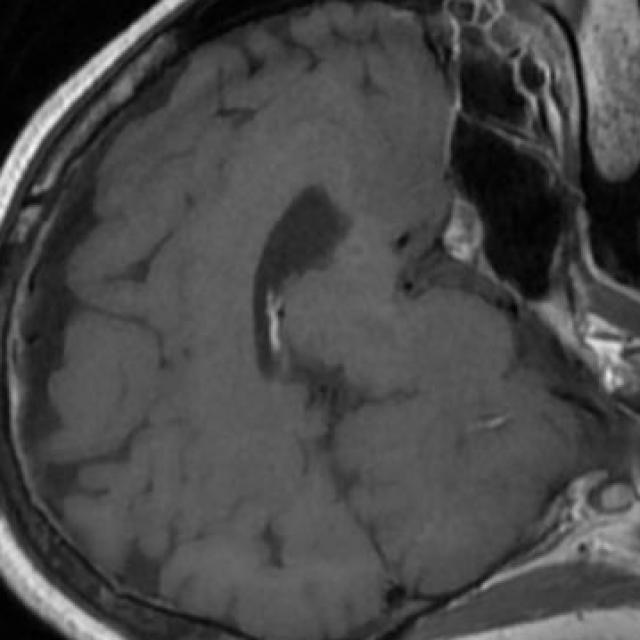pituitary: (442, 201, 480, 264)
